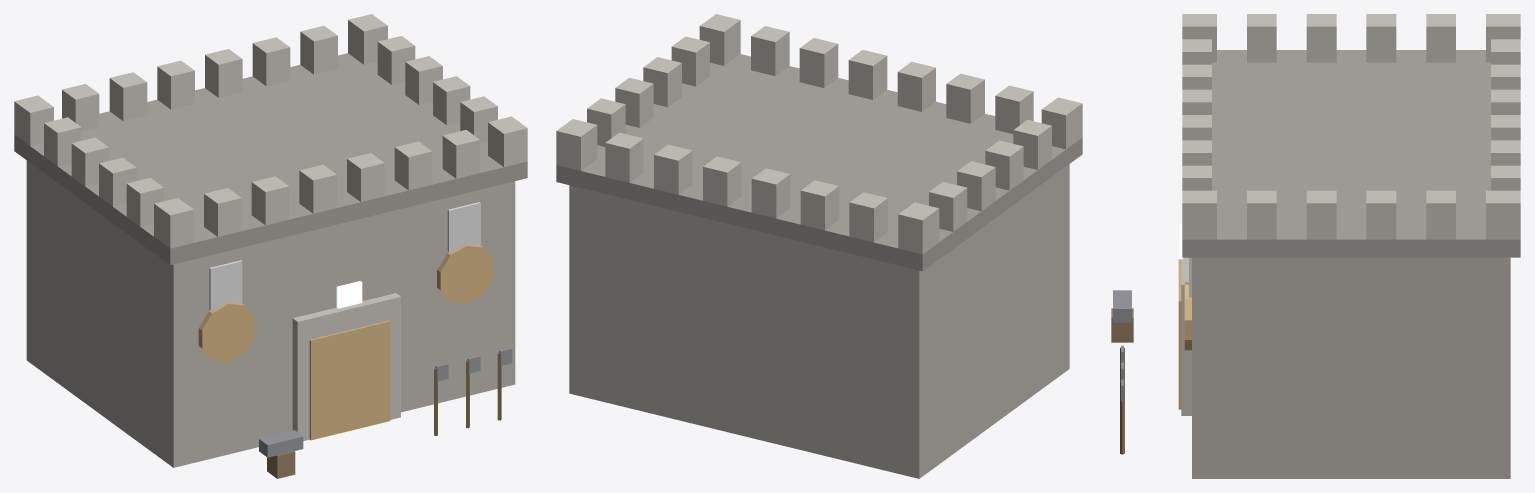
3 views of the same model, side by side, from view 1: azimuth 30°, elevation 25°; view 2: azimuth 150°, elevation 25°; view 3: azimuth 270°, elevation 25° (orthographic). The views are drawn at different scales.
Parts seen in each view (by area): view 1: body; view 2: body; view 3: body.
Part boxes in pixels (x1,y1,x2,y2): body: [14, 14, 527, 478]; body: [556, 14, 1082, 478]; body: [1111, 14, 1520, 478].
Bounding box in the file's own units: 9 × 6.2 × 8.22.
